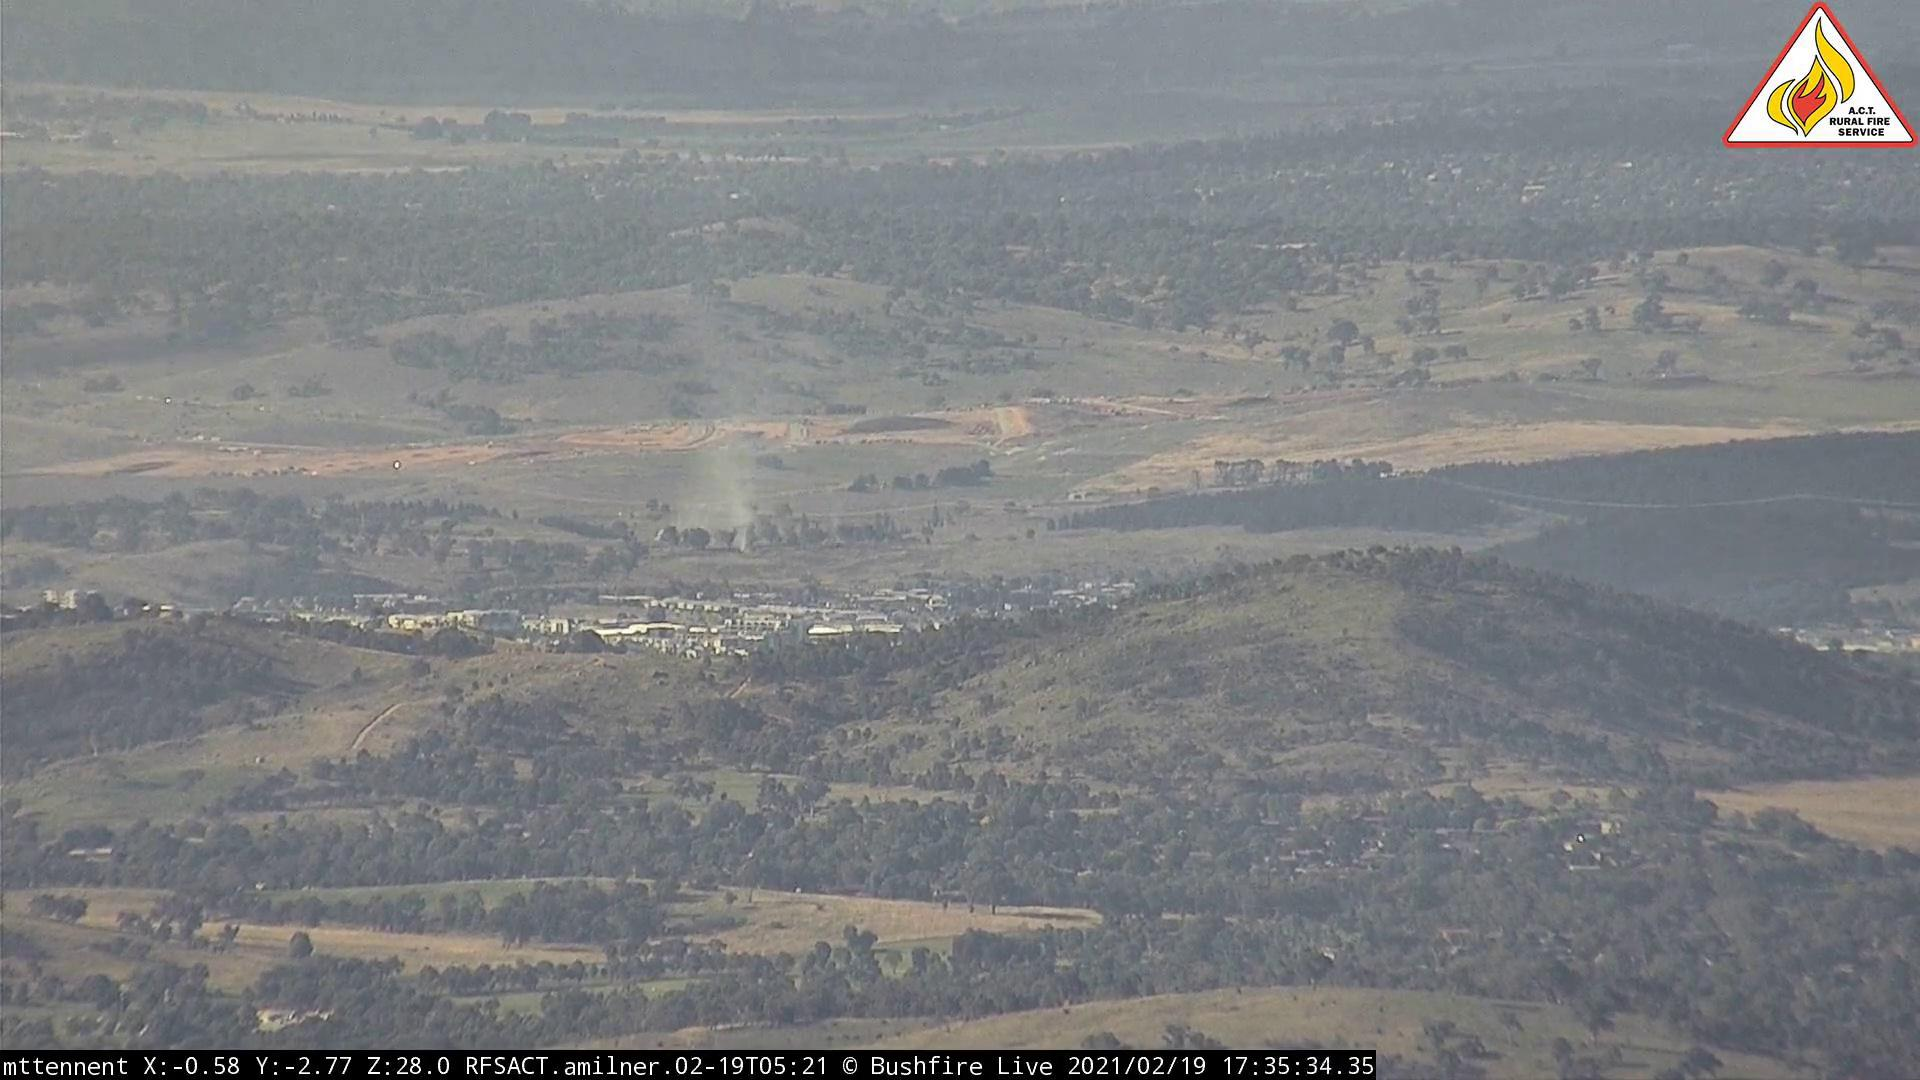Smoke: (651, 495, 761, 549)
